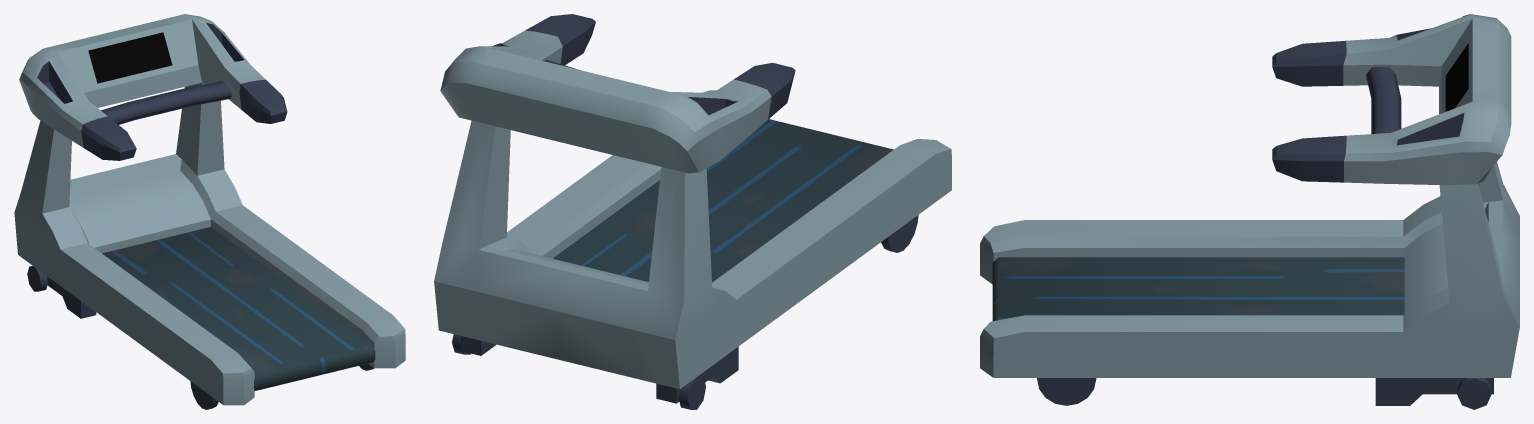
File: TreadmillFitoon.fbx
The picture shows the model from 3 angles, left to right: view 1: azimuth 30°, elevation 25°; view 2: azimuth 150°, elevation 25°; view 3: azimuth 270°, elevation 25°; orthographic projection. The views are drawn at different scales.
Parts seen in each view (by area): view 1: BaseBaja, Treadmill_5_low.001, Treadmill_8_low.001, Support_low.001, Wheel_1_low.001, Wheel_2_low.001; view 2: BaseBaja, Treadmill_5_low.001, Support_low.001, Wheel_2_low.001, Wheel_1_low.001; view 3: BaseBaja, Treadmill_5_low.001, Treadmill_8_low.001, Support_low.001, Wheel_1_low.001, Wheel_2_low.001.
Boxes of the visible parts, x1,y1,x2,y2 form: BaseBaja: (14,14,405,405); Treadmill_5_low.001: (102,227,375,390); Treadmill_8_low.001: (101,81,231,124); Support_low.001: (47,276,96,318); Wheel_1_low.001: (190,363,374,409); Wheel_2_low.001: (27,266,48,291); BaseBaja: (434,14,951,389); Treadmill_5_low.001: (553,119,893,282); Support_low.001: (461,336,738,403); Wheel_2_low.001: (452,334,705,409); Wheel_1_low.001: (881,215,918,252); BaseBaja: (980,14,1519,377); Treadmill_5_low.001: (992,257,1404,320); Treadmill_8_low.001: (1366,66,1401,133); Support_low.001: (1375,378,1493,405); Wheel_1_low.001: (1037,378,1096,405); Wheel_2_low.001: (1457,378,1491,409).
Bounding box in the file's own units: 464 × 532 × 880.
Materials: 2 (2 with a texture image).
